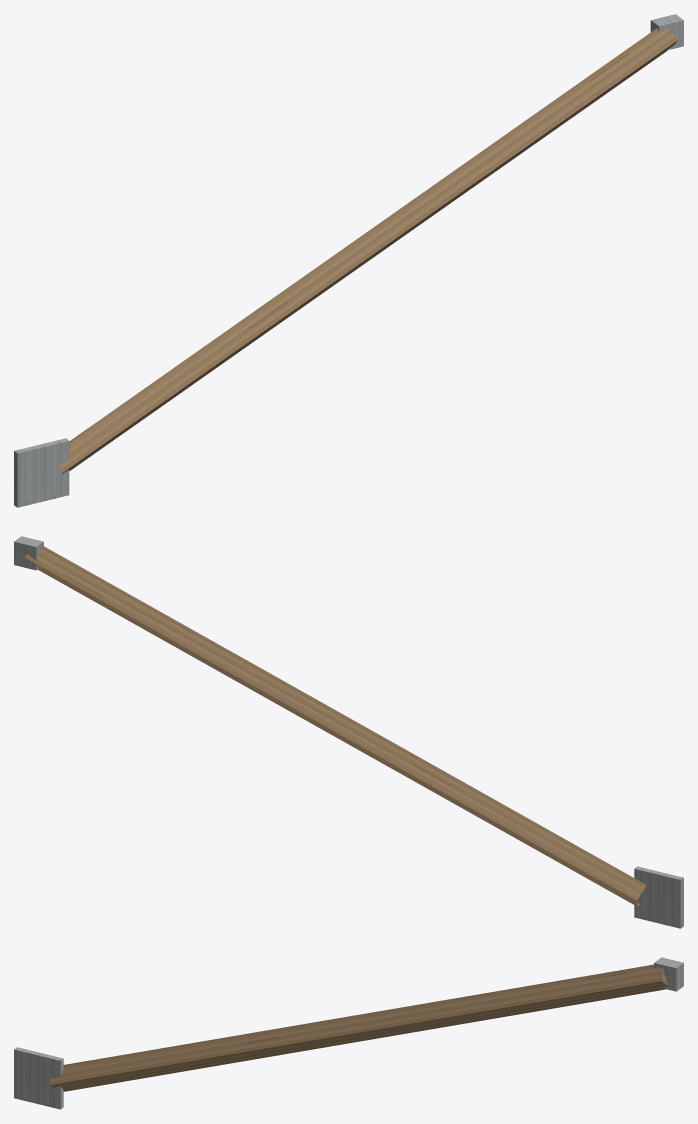
File: brace_r.obj
3 renders of one model, top to bottom at view 1: azimuth 30°, elevation 25°; view 2: azimuth 150°, elevation 25°; view 3: azimuth 330°, elevation 25°, orthographic. The views are drawn at different scales.
Parts seen in each view (by area): view 1: crossarm_alley_wood_6_r; view 2: crossarm_alley_wood_6_r; view 3: crossarm_alley_wood_6_r.
Boxes of the visible parts, x1=… form: crossarm_alley_wood_6_r: x1=14, y1=14, x2=683, y2=507; crossarm_alley_wood_6_r: x1=14, y1=536, x2=683, y2=928; crossarm_alley_wood_6_r: x1=14, y1=957, x2=683, y2=1109.
Size of the model in its own units: 4.23 by 1.67 by 0.5119.
